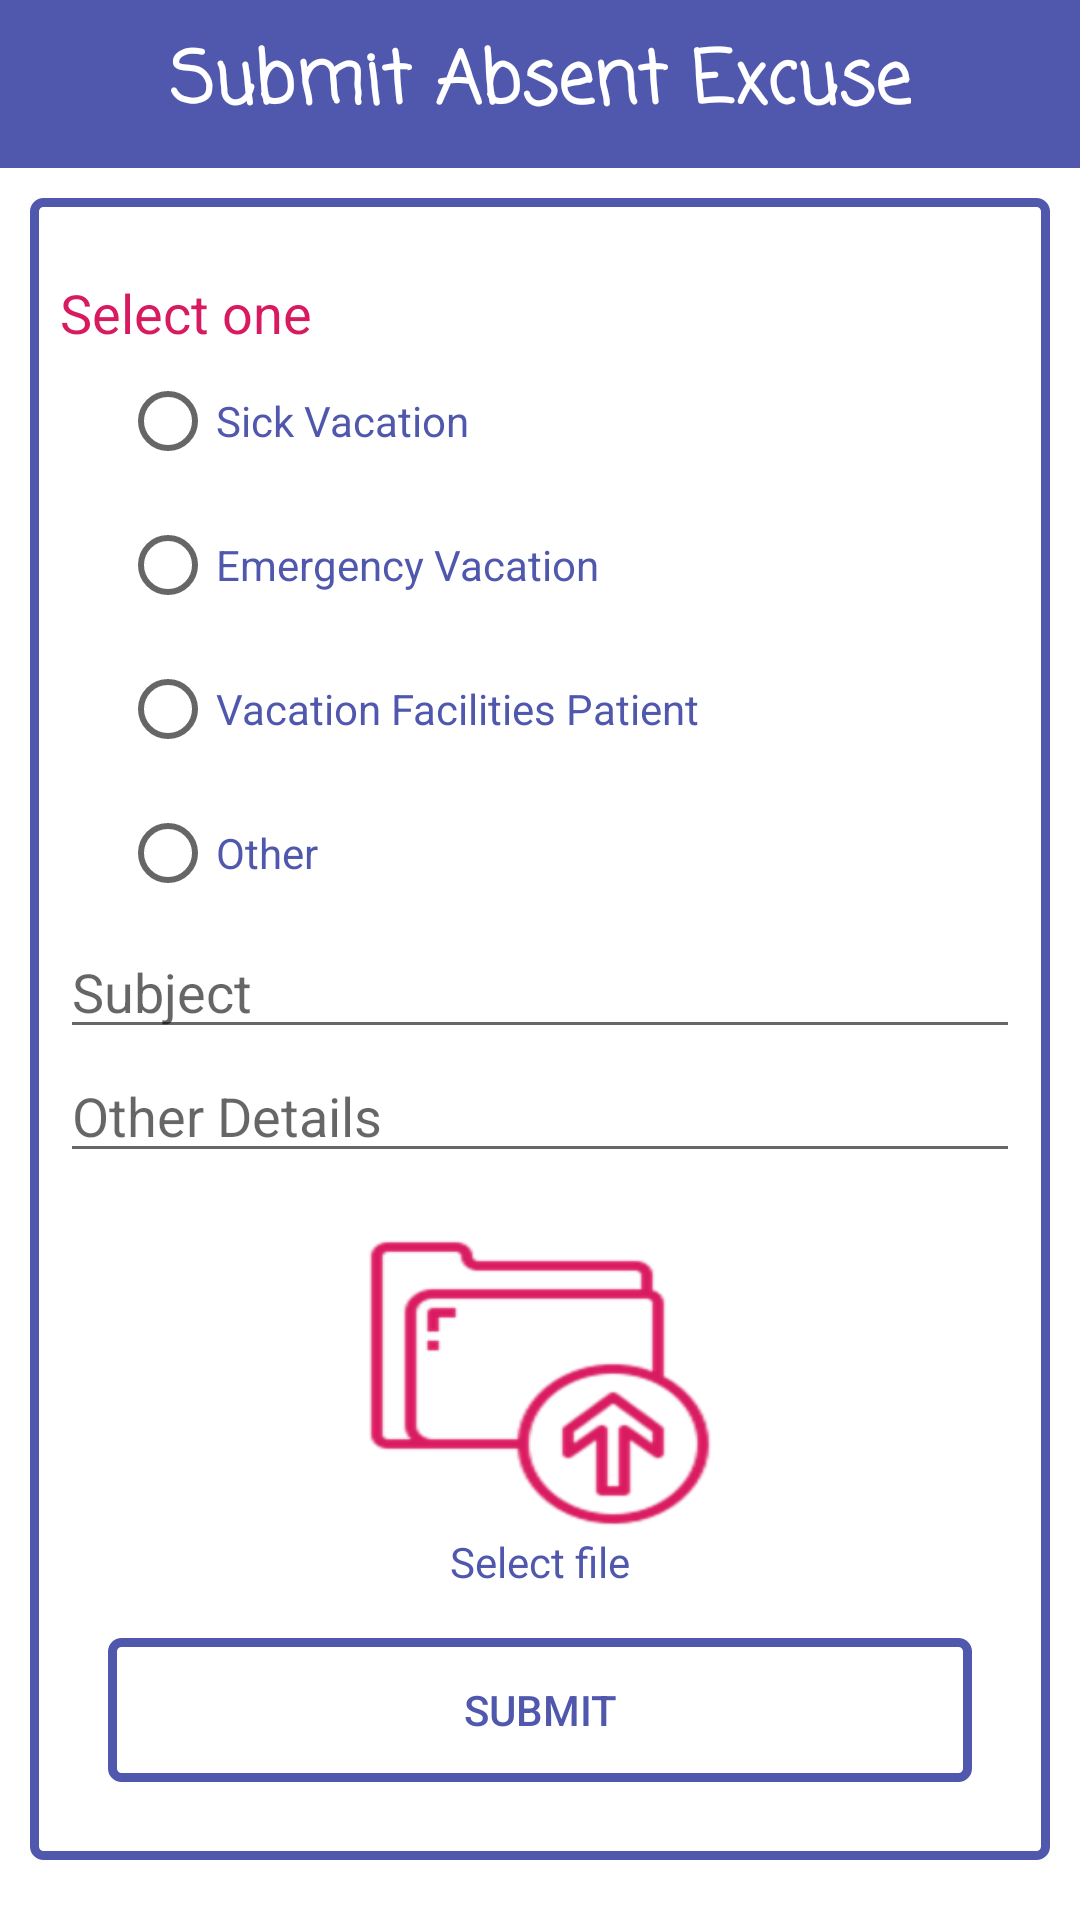

Named icons in this screenshot (1080 x 1920) and their centers, (x=x, y=y):
upload: (x=540, y=1383)
